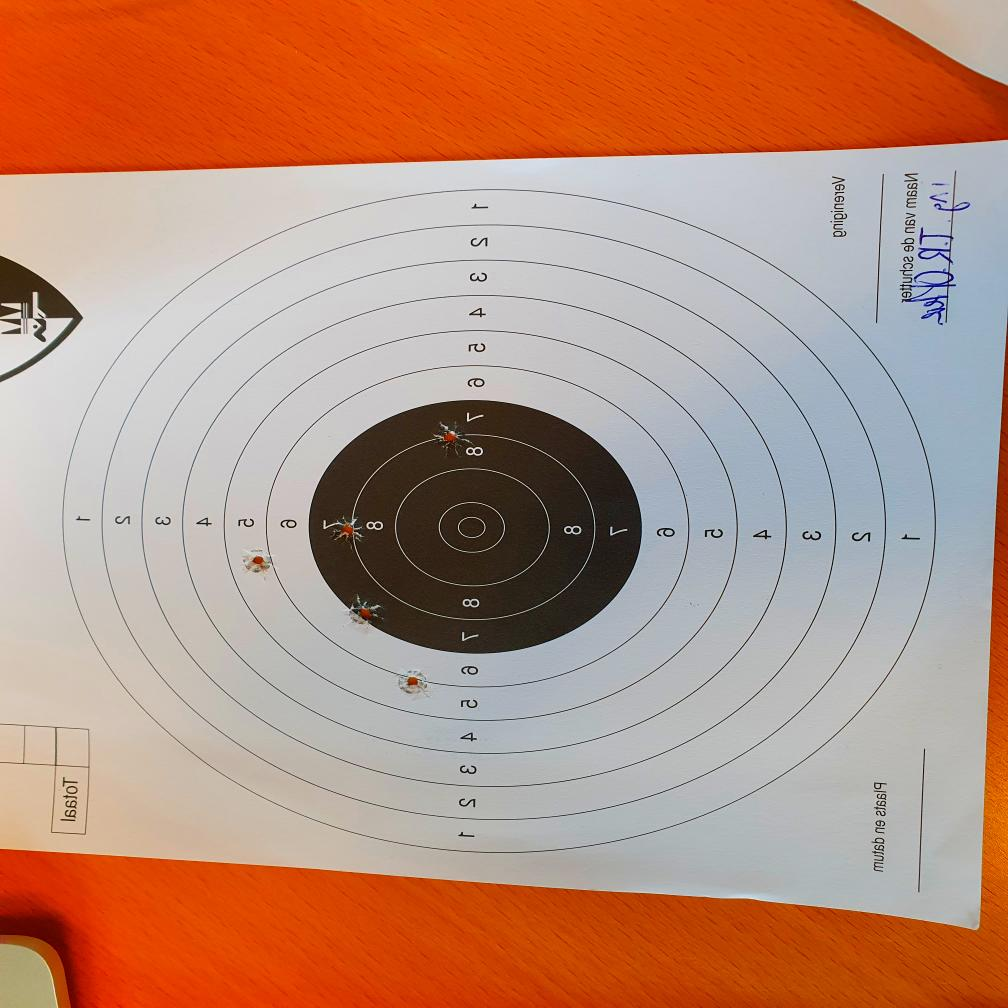6: (239, 546, 277, 582), (393, 667, 432, 698)
7: (340, 595, 386, 632)
8: (430, 421, 475, 457), (329, 515, 366, 552)
Target: (55, 192, 940, 849)
black_contour: (308, 399, 640, 654)
